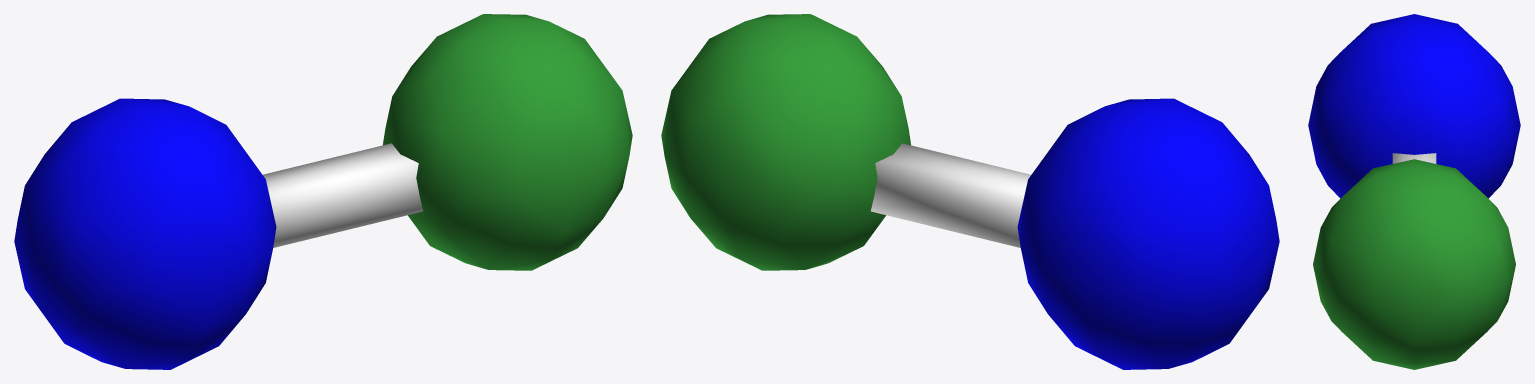
File: barbell.obj
3 views of the same model, side by side, from view 1: azimuth 30°, elevation 25°; view 2: azimuth 150°, elevation 25°; view 3: azimuth 270°, elevation 25° (orthographic). The views are drawn at different scales.
Visible parts, largest first — view 1: Sphere_1, Sphere_3, Cube_1; view 2: Sphere_1, Sphere_3, Cube_1; view 3: Sphere_3, Sphere_1, Cube_1.
Part boxes in pixels (x1,y1,x2,y2): Sphere_1: [14, 98, 276, 369]; Sphere_3: [383, 14, 632, 270]; Cube_1: [263, 143, 422, 247]; Sphere_1: [1017, 98, 1279, 369]; Sphere_3: [661, 14, 910, 270]; Cube_1: [871, 143, 1030, 247]; Sphere_3: [1313, 159, 1515, 369]; Sphere_1: [1308, 14, 1520, 198]; Cube_1: [1392, 153, 1436, 163].
Size of the model in its own units: 1.74 by 0.72 by 0.68.
